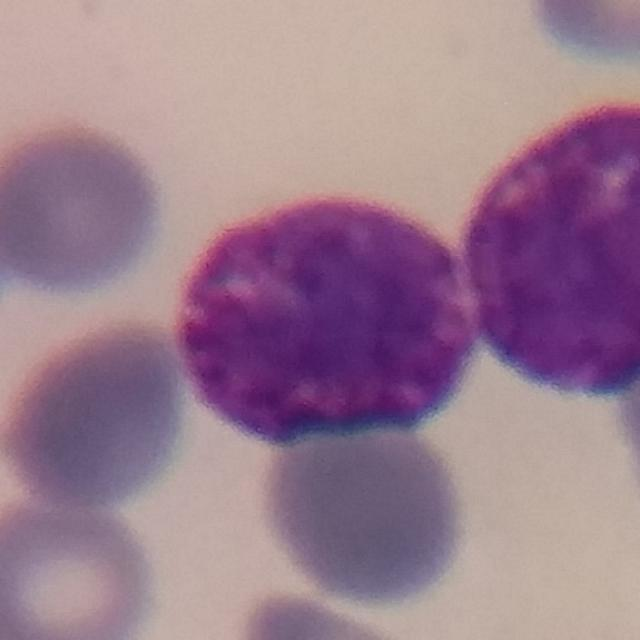baso: (171, 186, 479, 448), (467, 96, 640, 404)
